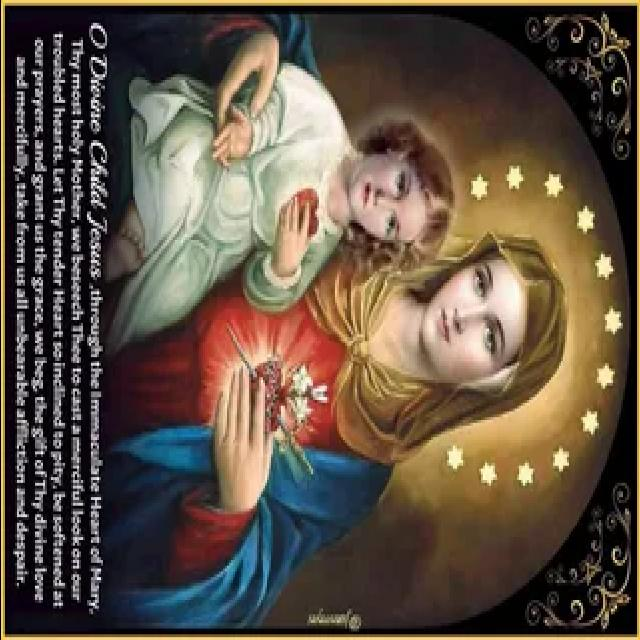mother of god: (126, 14, 580, 640)
